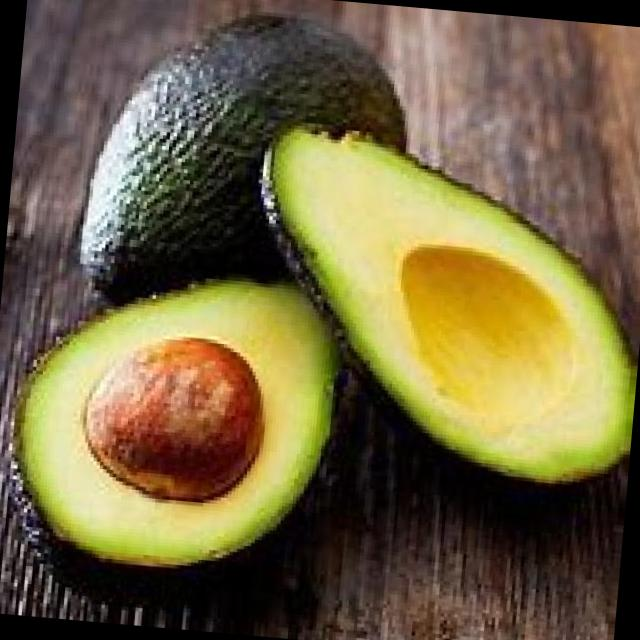avocado: (232, 106, 640, 514), (52, 0, 422, 321), (8, 249, 350, 589)
